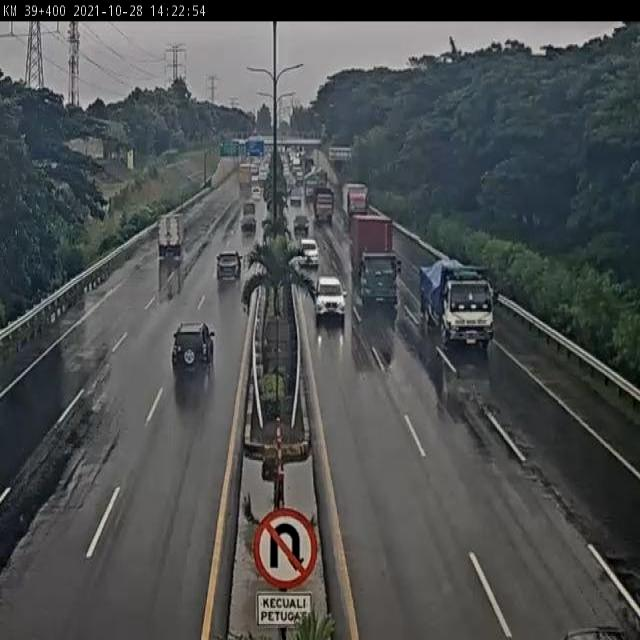Bus: (250, 162, 259, 176)
Car: (170, 322, 216, 380), (313, 275, 346, 324), (215, 250, 242, 281), (299, 237, 319, 267), (293, 214, 310, 237), (290, 187, 302, 206), (304, 181, 314, 199), (259, 167, 269, 184)
Truck: (421, 260, 494, 348), (348, 216, 404, 309), (158, 212, 184, 258), (312, 184, 336, 224), (344, 184, 368, 218), (240, 209, 257, 235), (239, 162, 253, 192)
Van: (251, 185, 262, 201)
